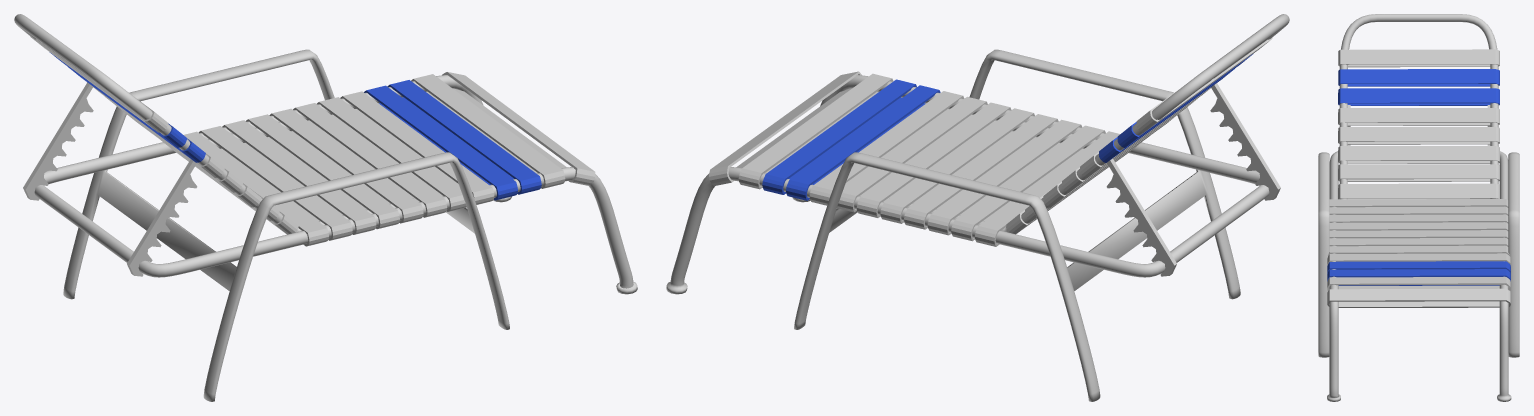
The model's file is pool_lounge_chair.glb.
The picture shows the model from 3 angles, left to right: view 1: azimuth 30°, elevation 25°; view 2: azimuth 150°, elevation 25°; view 3: azimuth 270°, elevation 25°; orthographic projection. The views are drawn at different scales.
Parts seen in each view (by area): view 1: Object_2, Object_3, Object_4; view 2: Object_2, Object_3, Object_4; view 3: Object_2, Object_3, Object_4.
Boxes of the visible parts, x1=… form: Object_2: x1=23, y1=36, x2=595, y2=276; Object_3: x1=14, y1=14, x2=637, y2=401; Object_4: x1=49, y1=52, x2=541, y2=200; Object_2: x1=709, y1=37, x2=1280, y2=276; Object_3: x1=666, y1=14, x2=1289, y2=401; Object_4: x1=762, y1=54, x2=1252, y2=200; Object_2: x1=1327, y1=49, x2=1510, y2=307; Object_3: x1=1318, y1=14, x2=1519, y2=401; Object_4: x1=1327, y1=69, x2=1510, y2=285.
Bounding box in the file's own units: 2.42 × 1.44 × 1.2.
